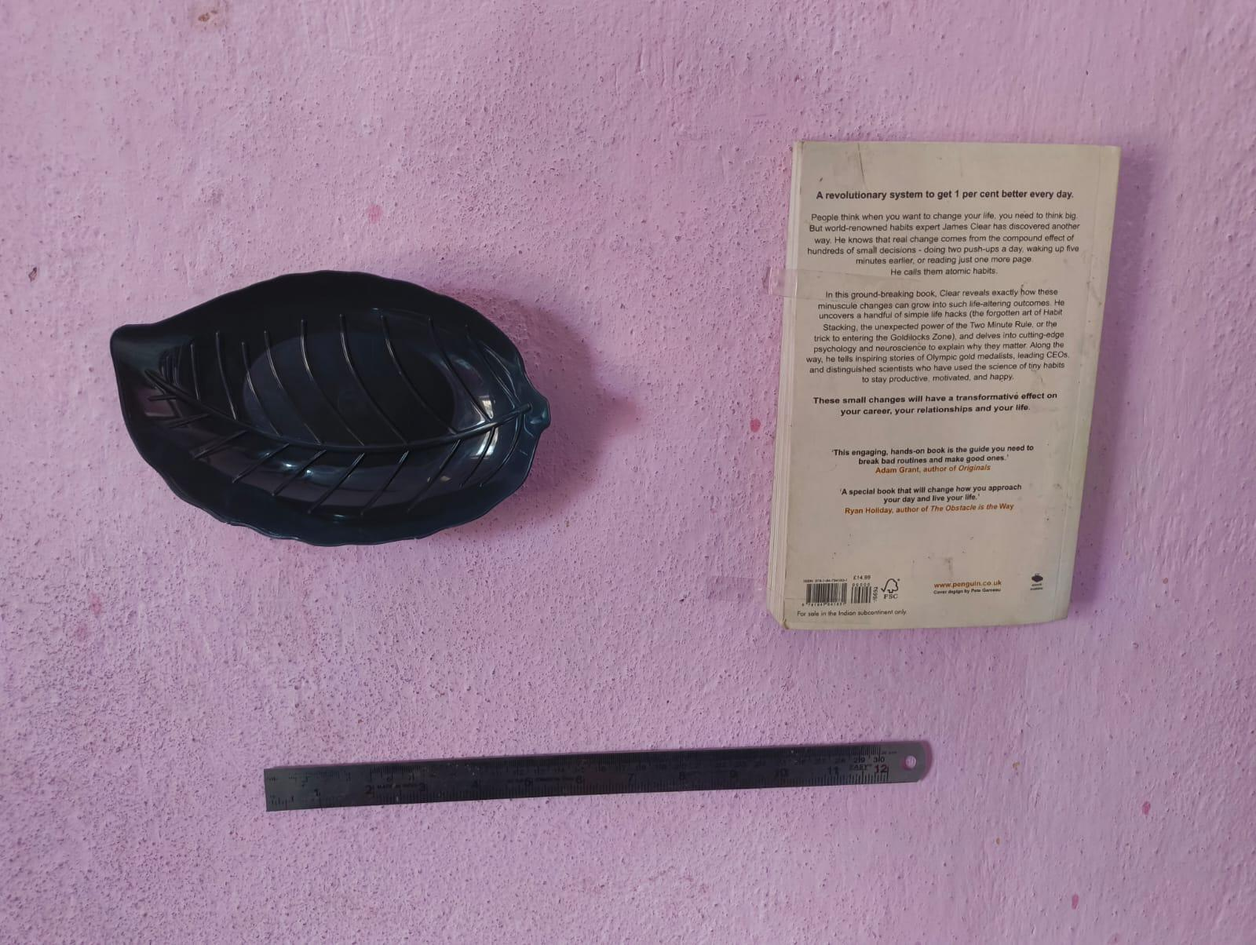Book: (752, 122, 1128, 640)
plate: (110, 263, 555, 553)
scale: (253, 724, 949, 821)
